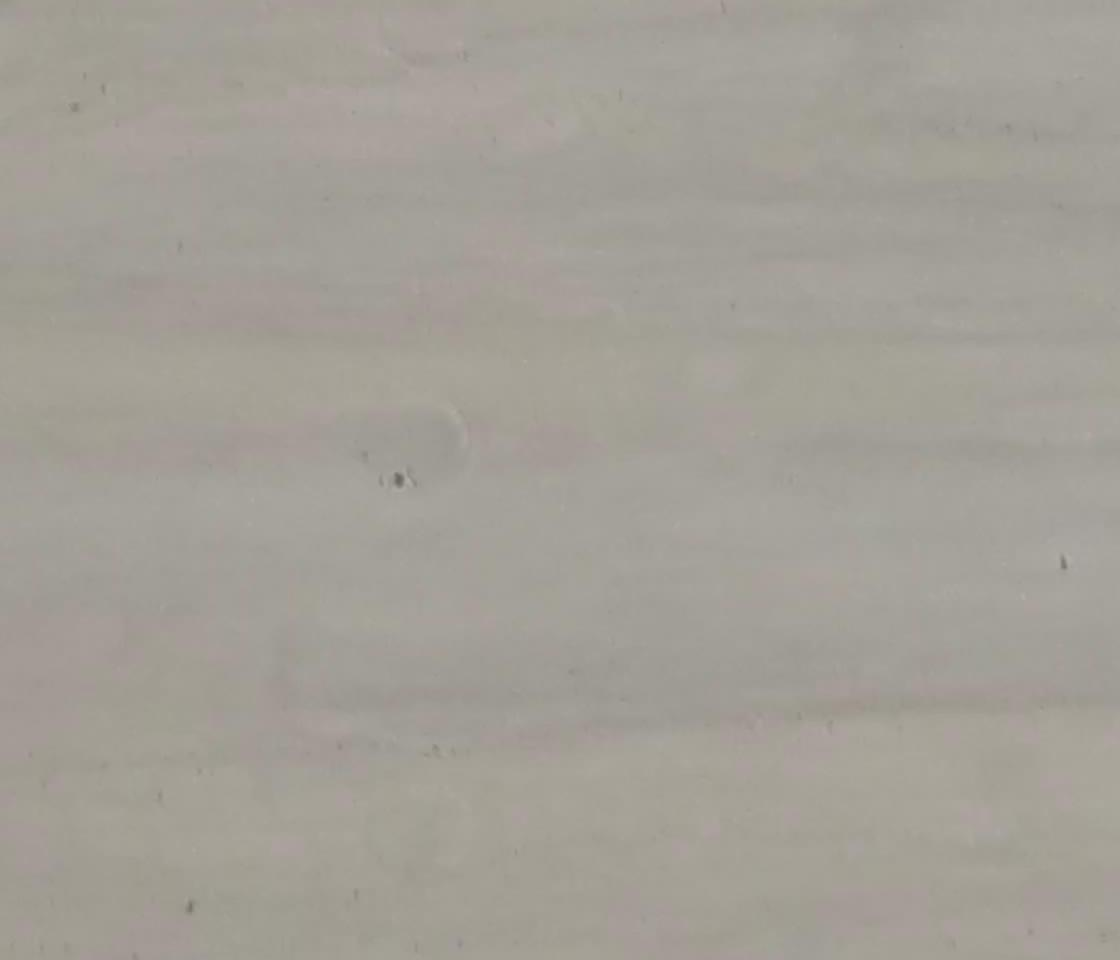scratch: (380, 462, 422, 496)
